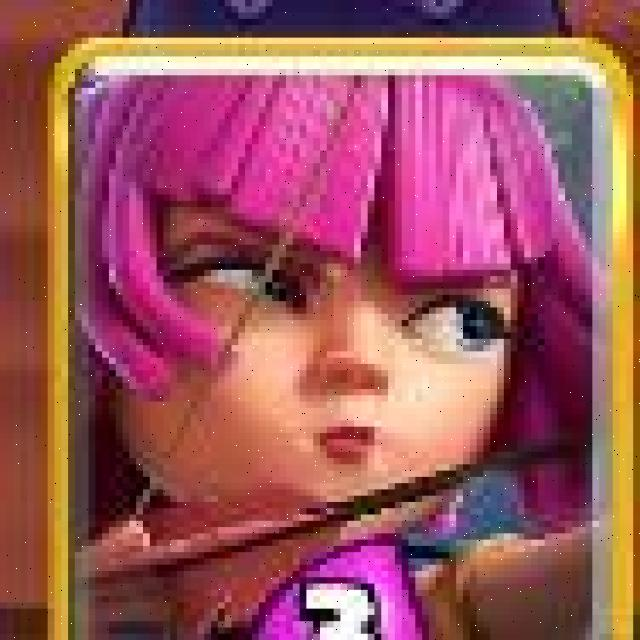Archers: (46, 34, 638, 640)
